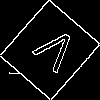V: (25, 24, 81, 81)
